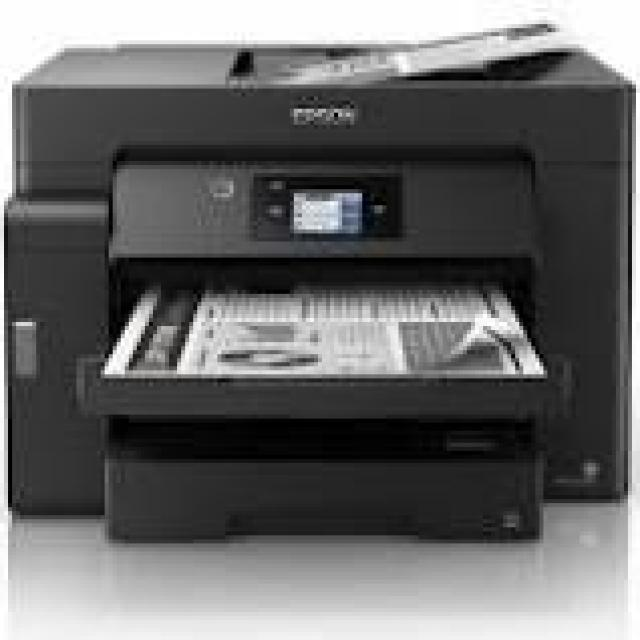printer: (4, 19, 635, 551)
